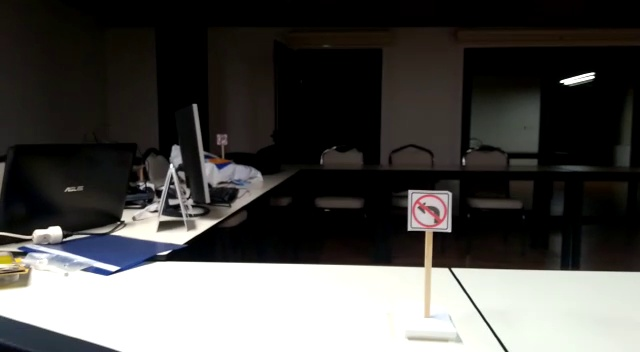sola_donulmez: (407, 193, 451, 230)
